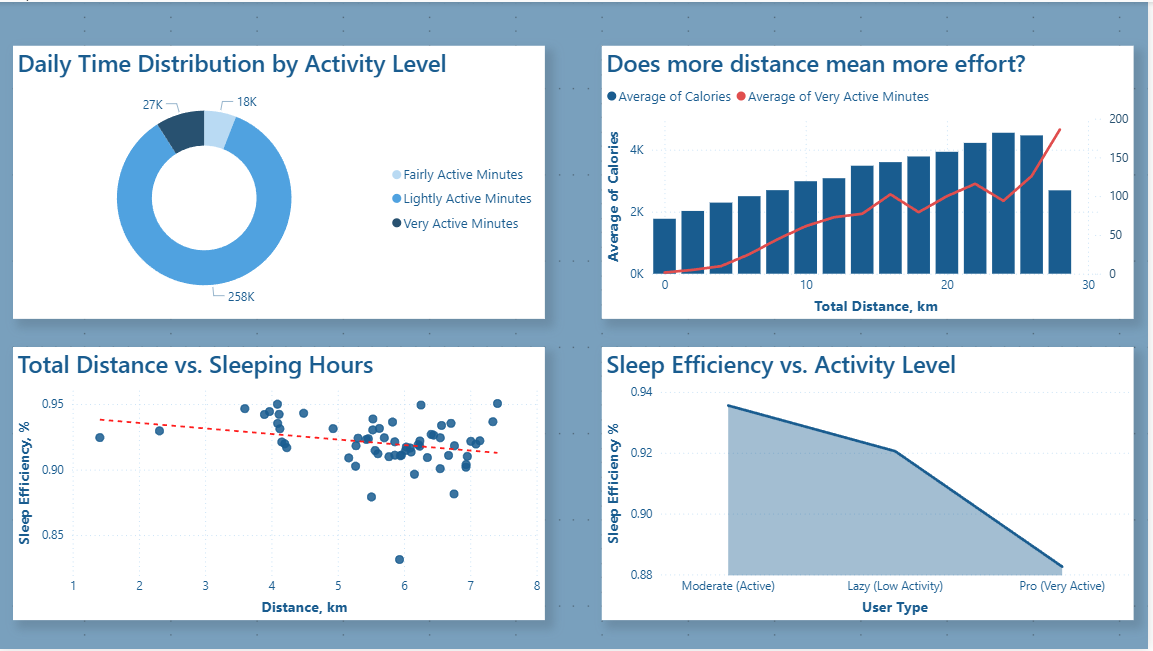

This screenshot's page, from the dashboard's own definition file:
{"tool":"powerbi","page":{"name":"Page 2","canvas":[1280,720],"ordinal":1},"visuals":[{"type":"scatterChart","title":"Total Distance vs. Sleeping Hours","fields":{"X":["Avg(daily_activity.TotalDistance)"],"Y":["minutes_sleep_appended.Sleep Efficiency %"],"Category":["Calendar.Date"]},"box":[16,384,592,304],"z":0},{"type":"donutChart","title":"Daily Time Distribution by Activity Level","fields":{"Y":["Sum(daily_activity.FairlyActiveMinutes)","Sum(daily_activity.LightlyActiveMinutes)","Sum(daily_activity.VeryActiveMinutes)"]},"box":[16,48,592,304],"z":1000},{"type":"lineClusteredColumnComboChart","title":"Does more distance mean more effort?","fields":{"Category":["daily_activity.TotalDistance (bins)"],"Y":["Avg(daily_activity.Calories)"],"Y2":["Avg(daily_activity.VeryActiveMinutes)"]},"box":[672,48,592,304],"z":2000},{"type":"areaChart","title":"Sleep Efficiency vs. Activity Level","fields":{"Category":["daily_activity.User_Type"],"Y":["minutes_sleep_appended.Sleep Efficiency %"]},"box":[672,384,592,304],"z":3000}]}

Visuals, with their boxes in screenshot pixels (x1, y1, x2, y2), scaled from the page's 1280x720 canvas onto the 1153x651 screenshot:
"Total Distance vs. Sleeping Hours" scatterChart: 14,347,548,622
"Daily Time Distribution by Activity Level" donutChart: 14,43,548,318
"Does more distance mean more effort?" lineClusteredColumnComboChart: 605,43,1139,318
"Sleep Efficiency vs. Activity Level" areaChart: 605,347,1139,622
